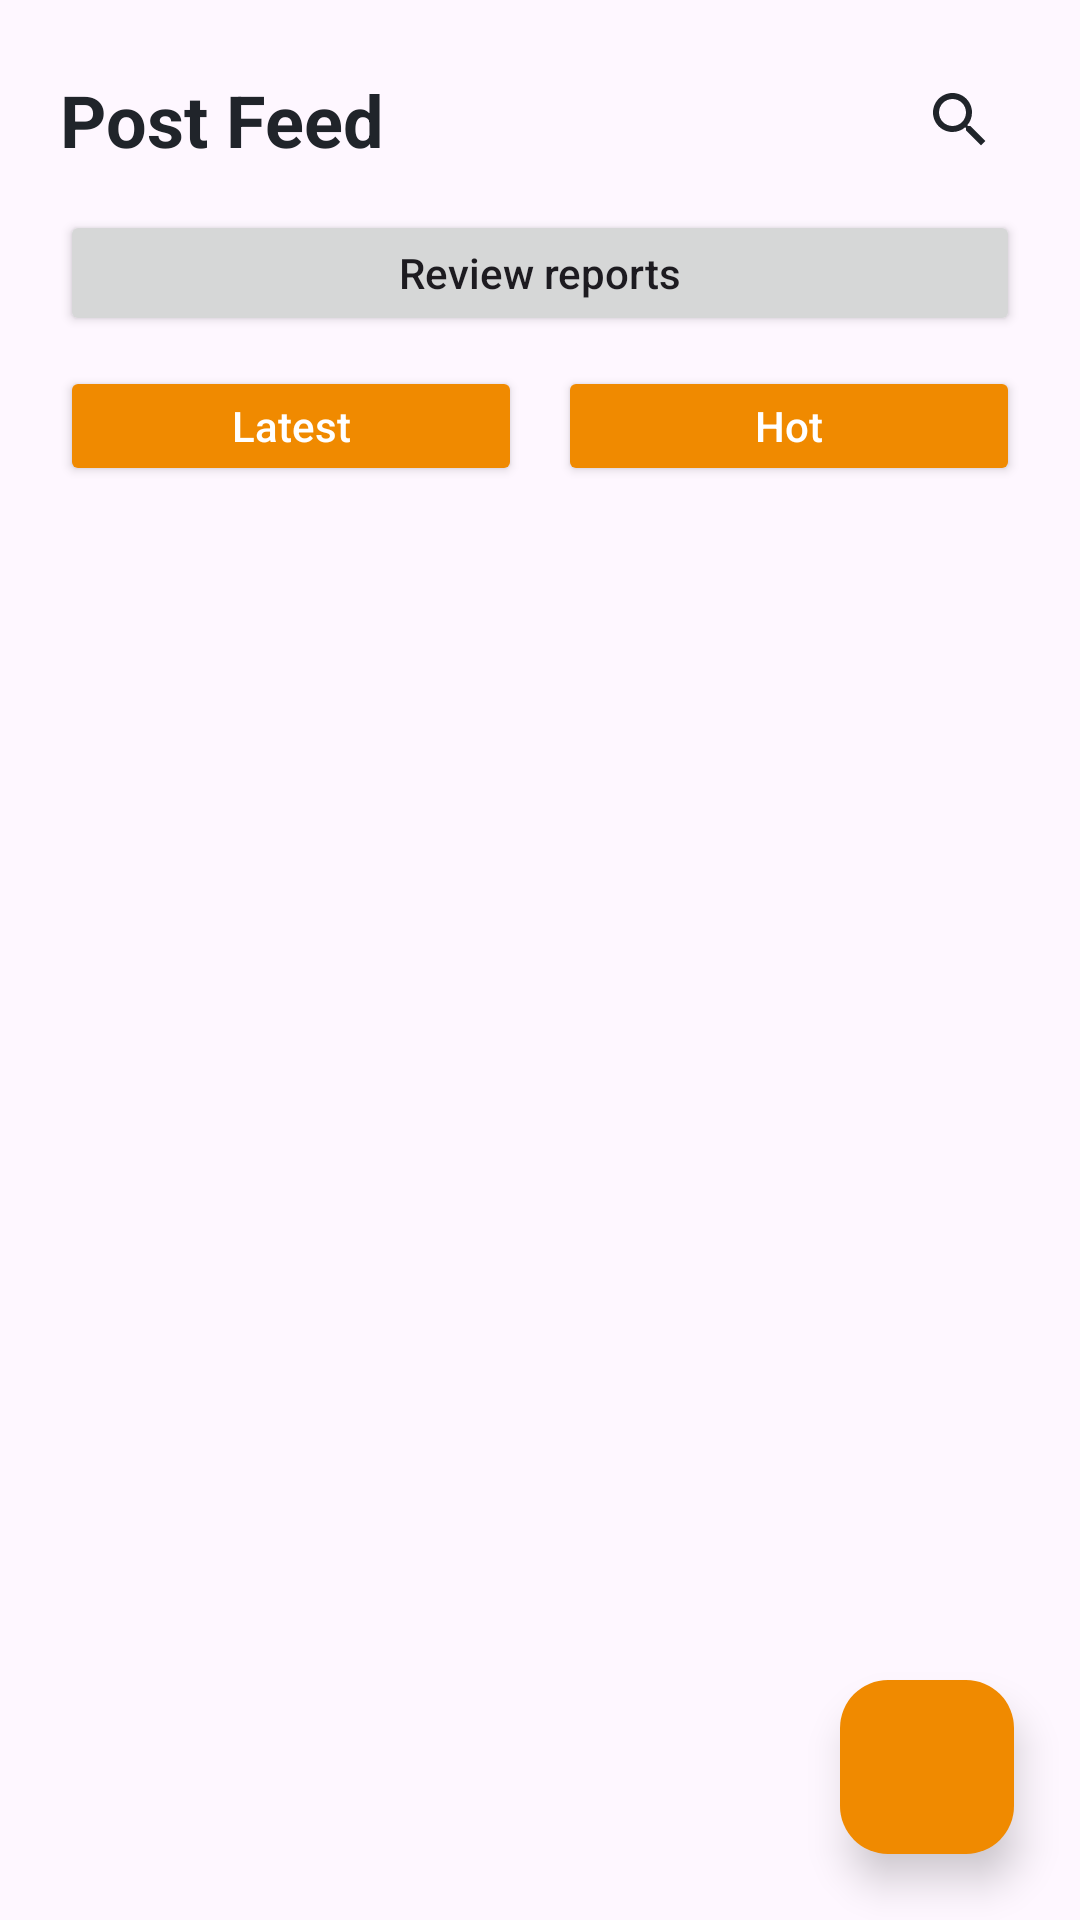

Icons on this 1080 x 1920 Android screen, each with the point to tap as (x=x, y=y):
Search: (x=959, y=119)
